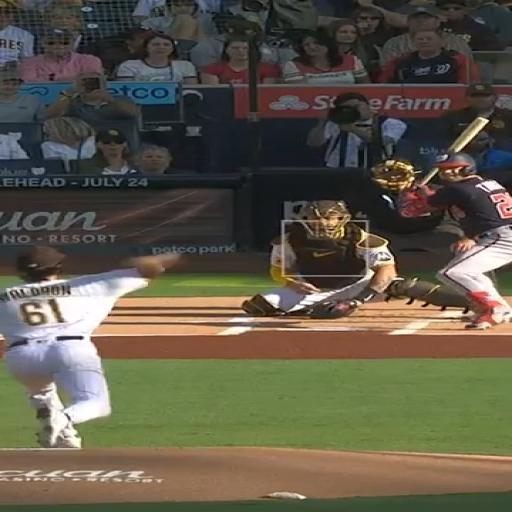bat: (447, 117, 489, 152)
